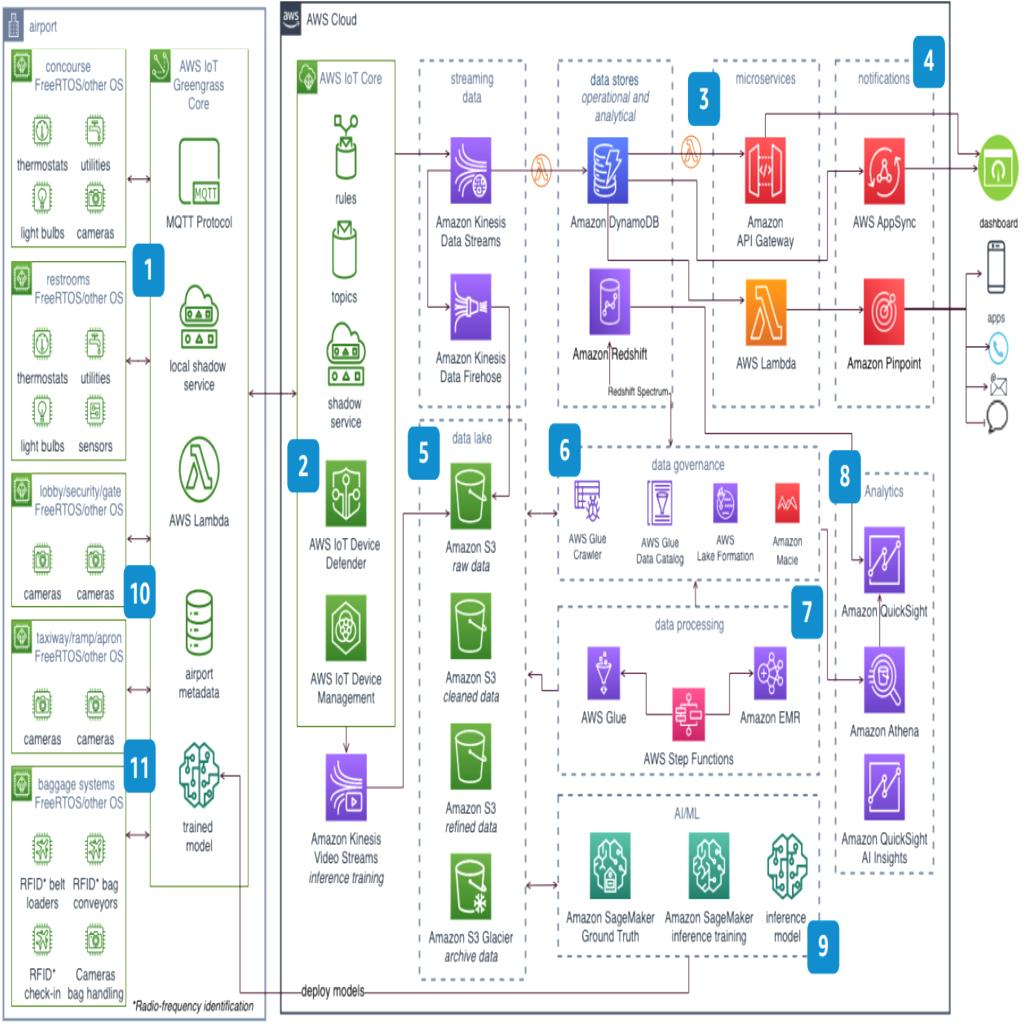actor: (976, 130, 1019, 198), (976, 238, 1019, 294), (976, 328, 1019, 364), (976, 366, 1019, 402), (976, 404, 1019, 440)
api_gateway: (864, 280, 908, 347), (744, 136, 788, 202), (864, 136, 908, 202)
compute: (750, 652, 794, 720), (744, 280, 788, 347), (584, 637, 628, 704), (589, 828, 632, 896), (689, 828, 732, 896), (768, 828, 811, 896), (177, 738, 220, 806), (324, 144, 366, 212), (177, 438, 220, 504), (324, 463, 366, 530), (324, 268, 366, 334), (324, 600, 366, 666), (524, 151, 550, 187), (678, 134, 704, 170)
data_flow: (245, 985, 683, 991), (238, 784, 244, 988), (360, 784, 450, 790), (668, 148, 745, 154), (346, 511, 404, 517), (914, 166, 958, 172), (345, 166, 388, 172), (345, 298, 388, 304), (804, 310, 847, 316), (804, 576, 847, 582), (804, 675, 847, 681), (342, 714, 348, 756), (342, 542, 348, 584), (702, 298, 744, 304), (883, 714, 889, 756), (342, 221, 348, 262), (883, 606, 889, 647), (469, 666, 475, 706), (469, 794, 475, 834), (538, 494, 544, 534), (922, 310, 962, 316), (806, 166, 845, 172), (614, 166, 652, 172), (710, 668, 748, 674), (469, 535, 475, 571), (624, 404, 630, 440), (673, 134, 679, 170), (116, 175, 142, 181), (116, 360, 142, 366), (116, 540, 142, 546), (116, 685, 142, 691), (116, 830, 142, 836), (250, 390, 266, 396), (510, 166, 524, 172), (510, 478, 524, 484), (534, 870, 548, 876), (628, 668, 642, 674)
database_storage: (450, 724, 494, 792), (864, 644, 908, 712), (450, 463, 494, 530), (450, 593, 494, 660), (864, 535, 908, 602), (864, 755, 908, 822), (450, 856, 494, 922), (589, 136, 632, 202), (589, 268, 632, 334)
network_security: (584, 468, 628, 536), (642, 468, 685, 536), (765, 468, 808, 536), (702, 468, 744, 536)
trust_boundary: (278, 10, 942, 1014), (10, 10, 268, 1014), (144, 50, 253, 884), (418, 420, 526, 973), (553, 39, 700, 428), (295, 116, 395, 662), (554, 599, 818, 773), (554, 786, 818, 960), (836, 460, 936, 880), (554, 448, 818, 580), (710, 119, 826, 348), (418, 119, 526, 348), (10, 260, 127, 465), (836, 119, 936, 348), (10, 48, 127, 243), (10, 768, 127, 942), (10, 476, 127, 609), (10, 622, 127, 754)
